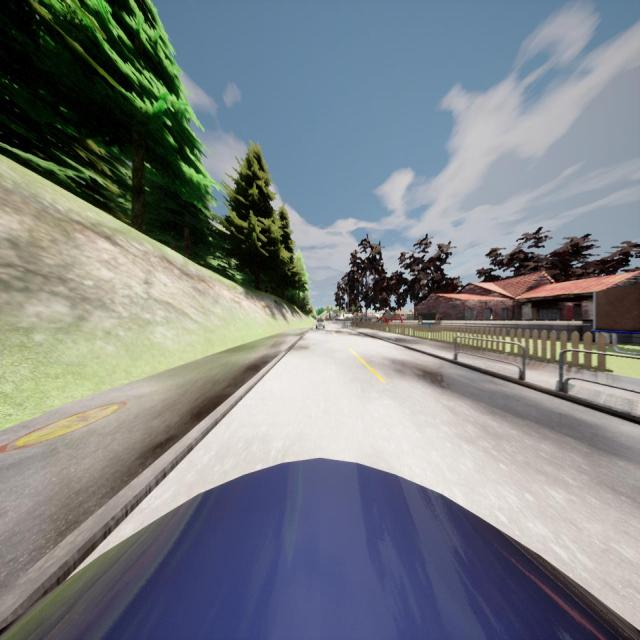Vehicle: (0, 456, 640, 640), (316, 318, 325, 330)
